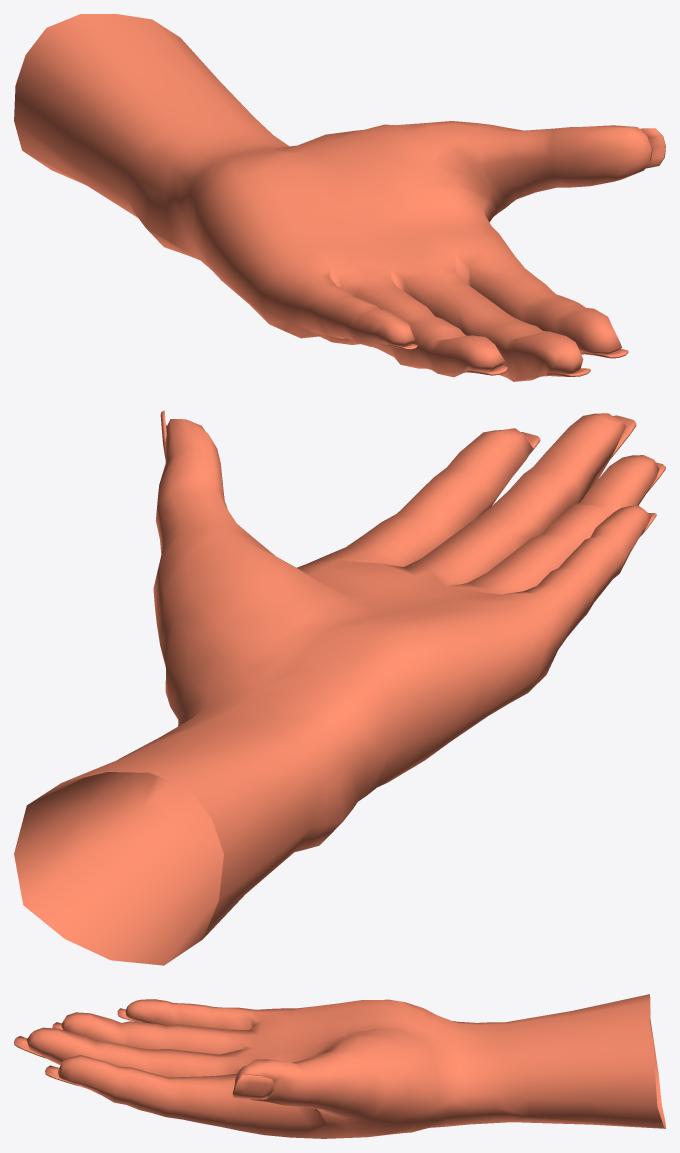
File: 3_4_HandSmoothLeftFront.obj
3 views of the same model, one above another, from view 1: azimuth 30°, elevation 25°; view 2: azimuth 150°, elevation 25°; view 3: azimuth 270°, elevation 25° (orthographic). The views are drawn at different scales.
Parts seen in each view (by area): view 1: hand_femme_rachel_polySurface1130.002; view 2: hand_femme_rachel_polySurface1130.002; view 3: hand_femme_rachel_polySurface1130.002.
Boxes of the visible parts, box(x1,y1,x2,y2) form: hand_femme_rachel_polySurface1130.002: box(14, 14, 665, 381); hand_femme_rachel_polySurface1130.002: box(14, 410, 665, 965); hand_femme_rachel_polySurface1130.002: box(14, 994, 665, 1138).
Size of the model in its own units: 0.0793 by 0.0399 by 0.1742.
